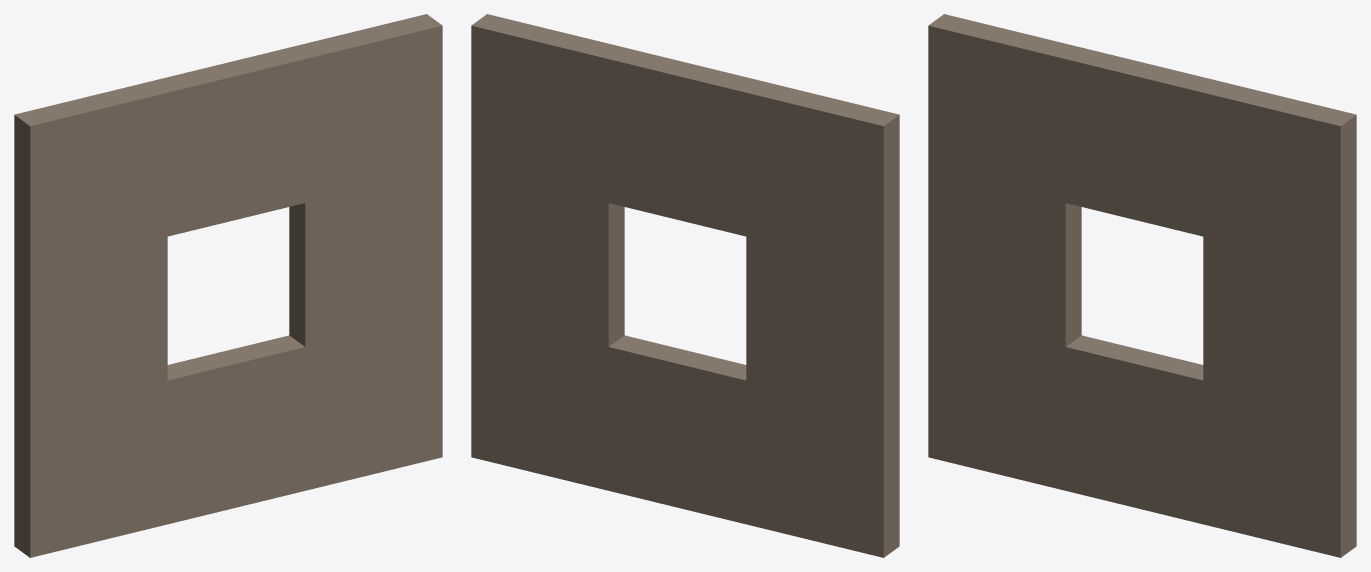
File: wall_window_collider.glb
The picture shows the model from 3 angles, left to right: view 1: azimuth 30°, elevation 25°; view 2: azimuth 150°, elevation 25°; view 3: azimuth 330°, elevation 25°; orthographic projection.
Parts seen in each view (by area): view 1: wall_window_collider; view 2: wall_window_collider; view 3: wall_window_collider.
Part boxes in pixels (left/top/right/bottom): wall_window_collider: left=14, top=14, right=442, bottom=557; wall_window_collider: left=471, top=14, right=899, bottom=557; wall_window_collider: left=928, top=14, right=1356, bottom=557.
Bounding box in the file's own units: 3 × 3 × 0.2.
